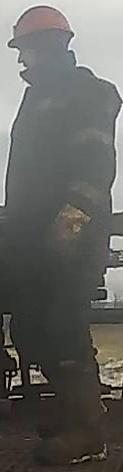gloves: (35, 196, 96, 270)
helmet: (7, 1, 75, 51)
vest: (5, 74, 117, 283)
